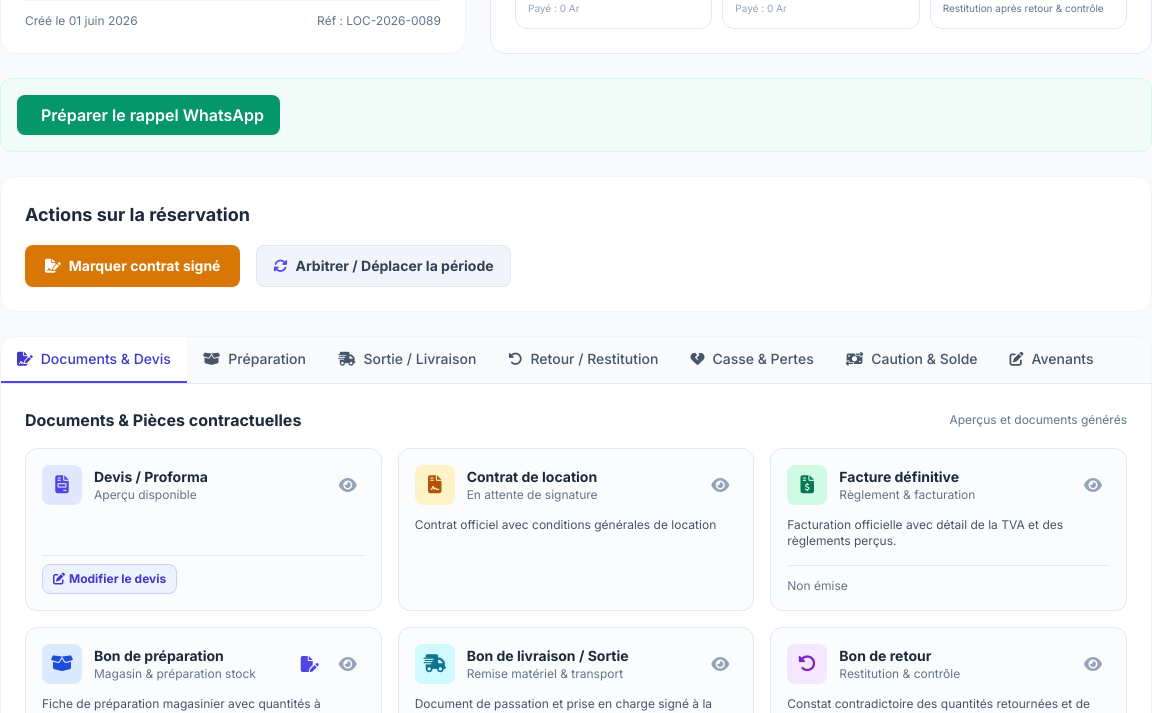
Test case: ReservationDetailPage › 1. Préparation Titan: redirects quantity entry to the persisted preparation workflow
(page scrolled)
Click the button "Préparation" at (254,360), box x1=187 y1=337 x2=322 y2=383
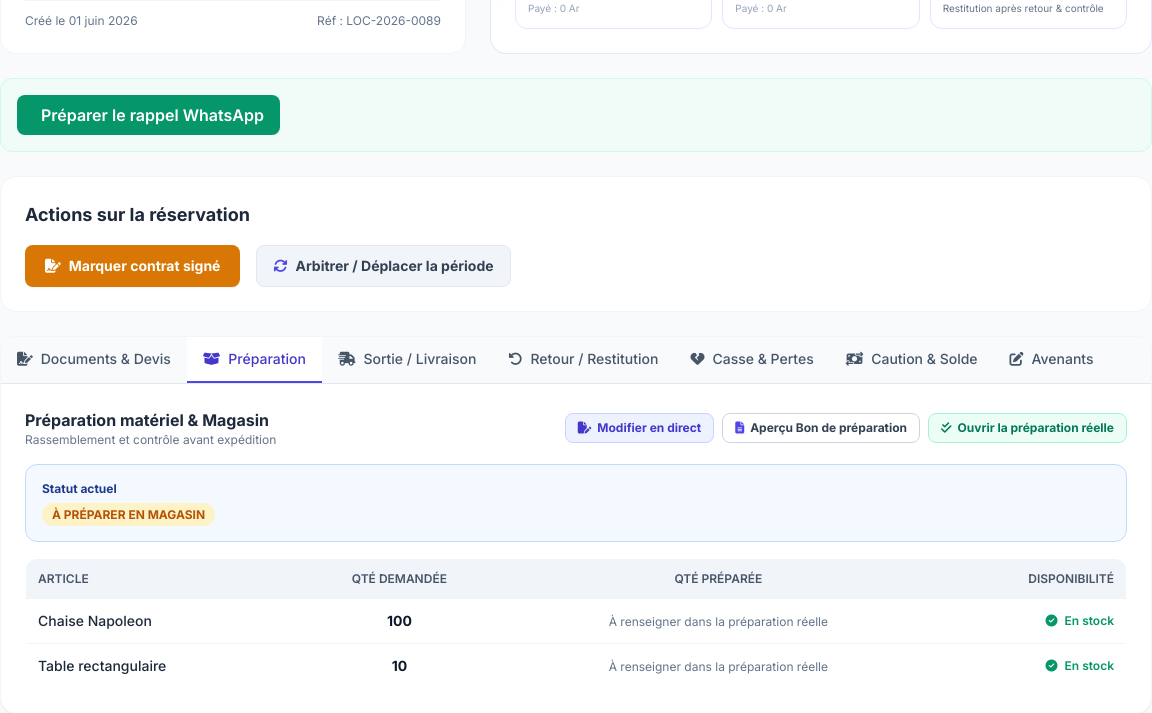
Expected: the text "À renseigner dans la préparation réelle" is shown 2 times, x1=609 y1=614 x2=828 y2=629; x1=609 y1=659 x2=828 y2=674
